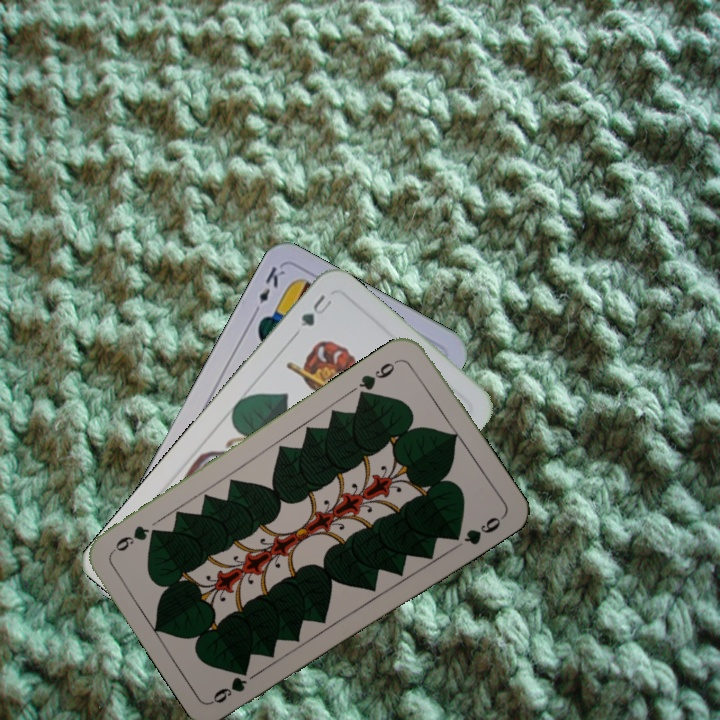EK: (248, 262, 288, 318)
G9: (354, 355, 403, 400), (209, 668, 250, 706)
GU: (296, 290, 336, 330)
